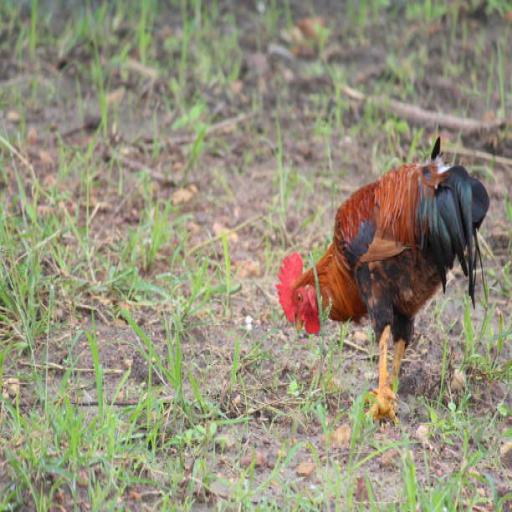healthy: (261, 232, 336, 350)
